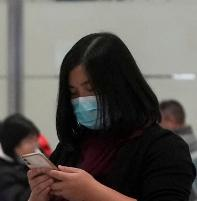OK: (68, 78, 106, 132)
